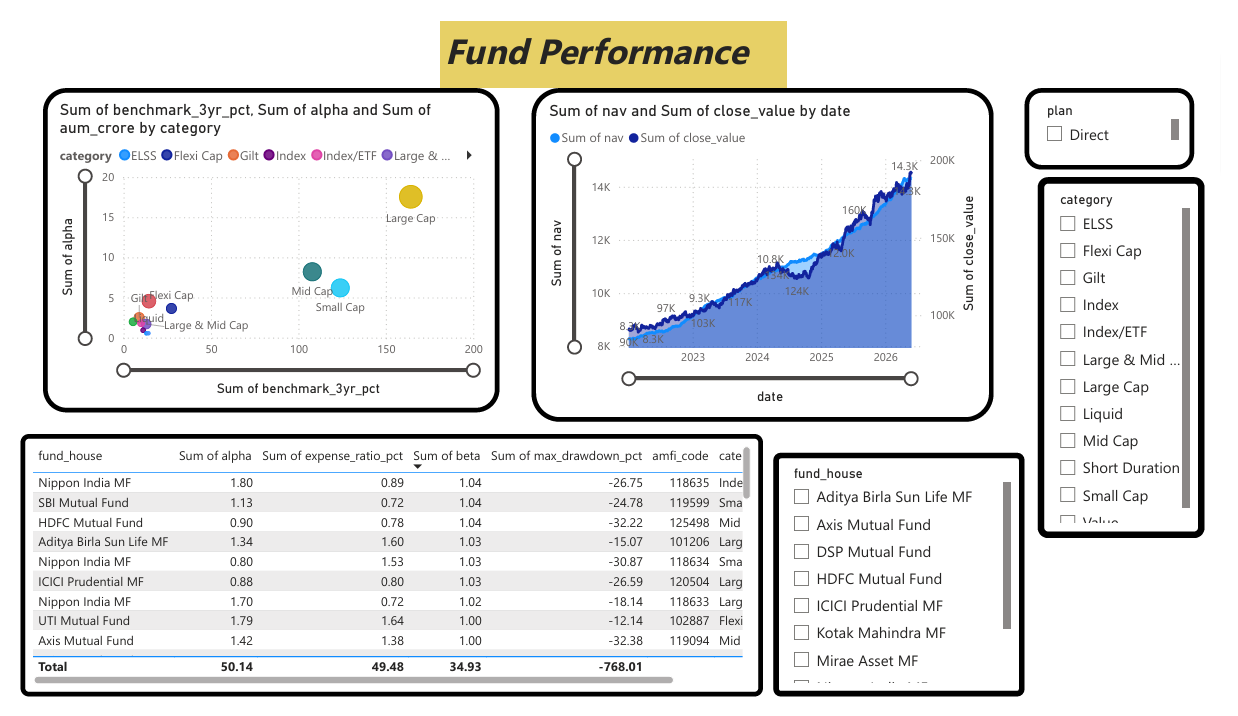

What the dashboard file says about the page in this screenshot:
{"tool":"powerbi","page":{"name":"Fund Performance","canvas":[1280,720],"ordinal":1},"visuals":[{"type":"scatterChart","fields":{"X":["Sum(07_scheme_performance.benchmark_3yr_pct)"],"Y":["Sum(07_scheme_performance.alpha)"],"Size":["Sum(07_scheme_performance.aum_crore)"],"Series":["07_scheme_performance.category"]},"box":[24.5,70.9,486.7,346.1],"z":0},{"type":"tableEx","fields":{"Values":["07_scheme_performance.fund_house","Sum(07_scheme_performance.alpha)","Sum(07_scheme_performance.expense_ratio_pct)","Sum(07_scheme_performance.beta)","Sum(07_scheme_performance.max_drawdown_pct)","07_scheme_performance.amfi_code","07_scheme_performance.category"]},"box":[0,440.2,792.4,280],"z":1000},{"type":"lineChart","fields":{"Category":["02_nav_history.date"],"Y":["Sum(02_nav_history.nav)"],"Y2":["Sum(10_benchmark_indices.close_value)"]},"box":[545.4,70.9,492.8,355.8],"z":2000},{"type":"slicer","fields":{"Values":["07_scheme_performance.fund_house"]},"box":[803.4,459.8,267.8,260.5],"z":3000},{"type":"slicer","fields":{"Values":["07_scheme_performance.category"]},"box":[1084.7,166.3,178.5,385.2],"z":4000},{"type":"slicer","fields":{"Values":["07_scheme_performance.plan"]},"box":[1071.2,70.9,181,86.8],"z":5000},{"type":"textbox","box":[447.6,0,370.5,70.9],"z":7000}]}

Visuals, with their boxes in screenshot pixels (x1, y1, x2, y2), scaled from the page's 1280x720 canvas onto the 1238x716 screenshot:
scatterChart - Sum(07_scheme_performance.benchmark_3yr_pct) x Sum(07_scheme_performance.alpha): [left=24, top=71, right=494, bottom=415]
tableEx - 07_scheme_performance.fund_house x Sum(07_scheme_performance.alpha): [left=0, top=438, right=766, bottom=715]
lineChart - 02_nav_history.date x Sum(02_nav_history.nav): [left=528, top=71, right=1004, bottom=424]
slicer - 07_scheme_performance.fund_house: [left=777, top=457, right=1036, bottom=715]
slicer - 07_scheme_performance.category: [left=1049, top=165, right=1222, bottom=548]
slicer - 07_scheme_performance.plan: [left=1036, top=71, right=1211, bottom=157]
textbox: [left=433, top=0, right=791, bottom=71]
